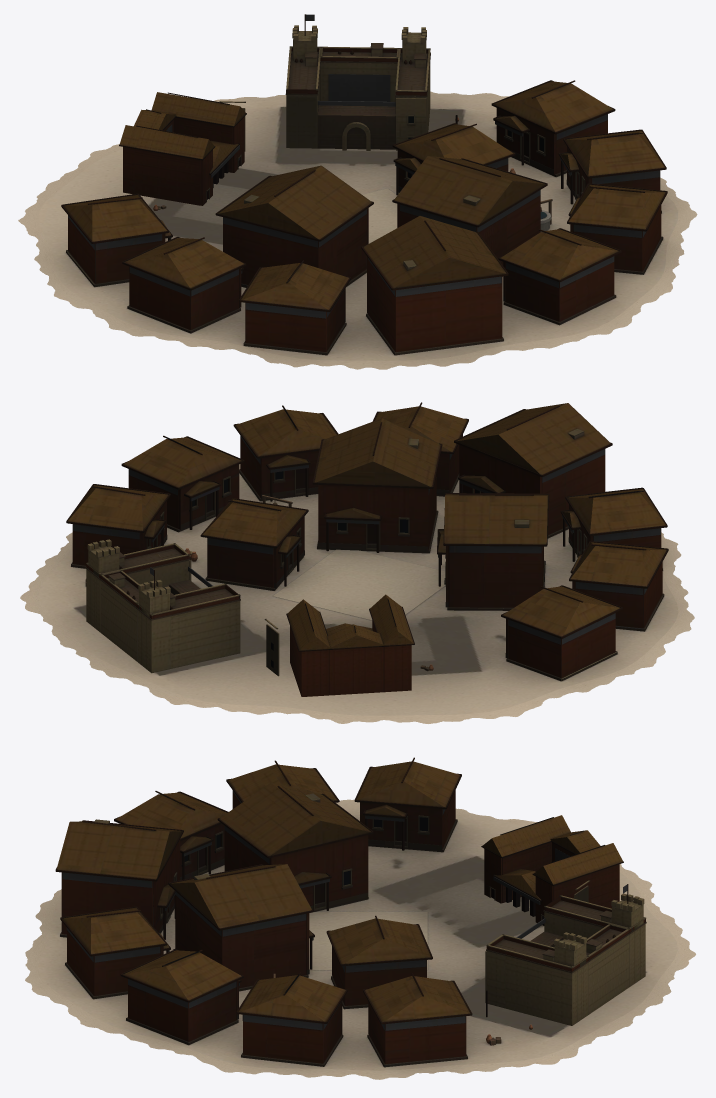
Rendered from gunpowder-town-medium-b-westafrica-db06bd52.glb.
The picture shows the model from 3 angles, top to bottom: view 1: azimuth 30°, elevation 25°; view 2: azimuth 150°, elevation 25°; view 3: azimuth 270°, elevation 25°; orthographic projection.
Visible parts, largest first — view 1: LOD0; view 2: LOD0; view 3: LOD0.
Part boxes in pixels (x1=…): LOD0: x1=18, y1=14, x2=697, y2=369; LOD0: x1=20, y1=402, x2=694, y2=723; LOD0: x1=25, y1=757, x2=695, y2=1079.
Size of what is drawn, in the model's own units: 5.93 by 0.949 by 6.02.
Materials: 3 (3 with a texture image).
